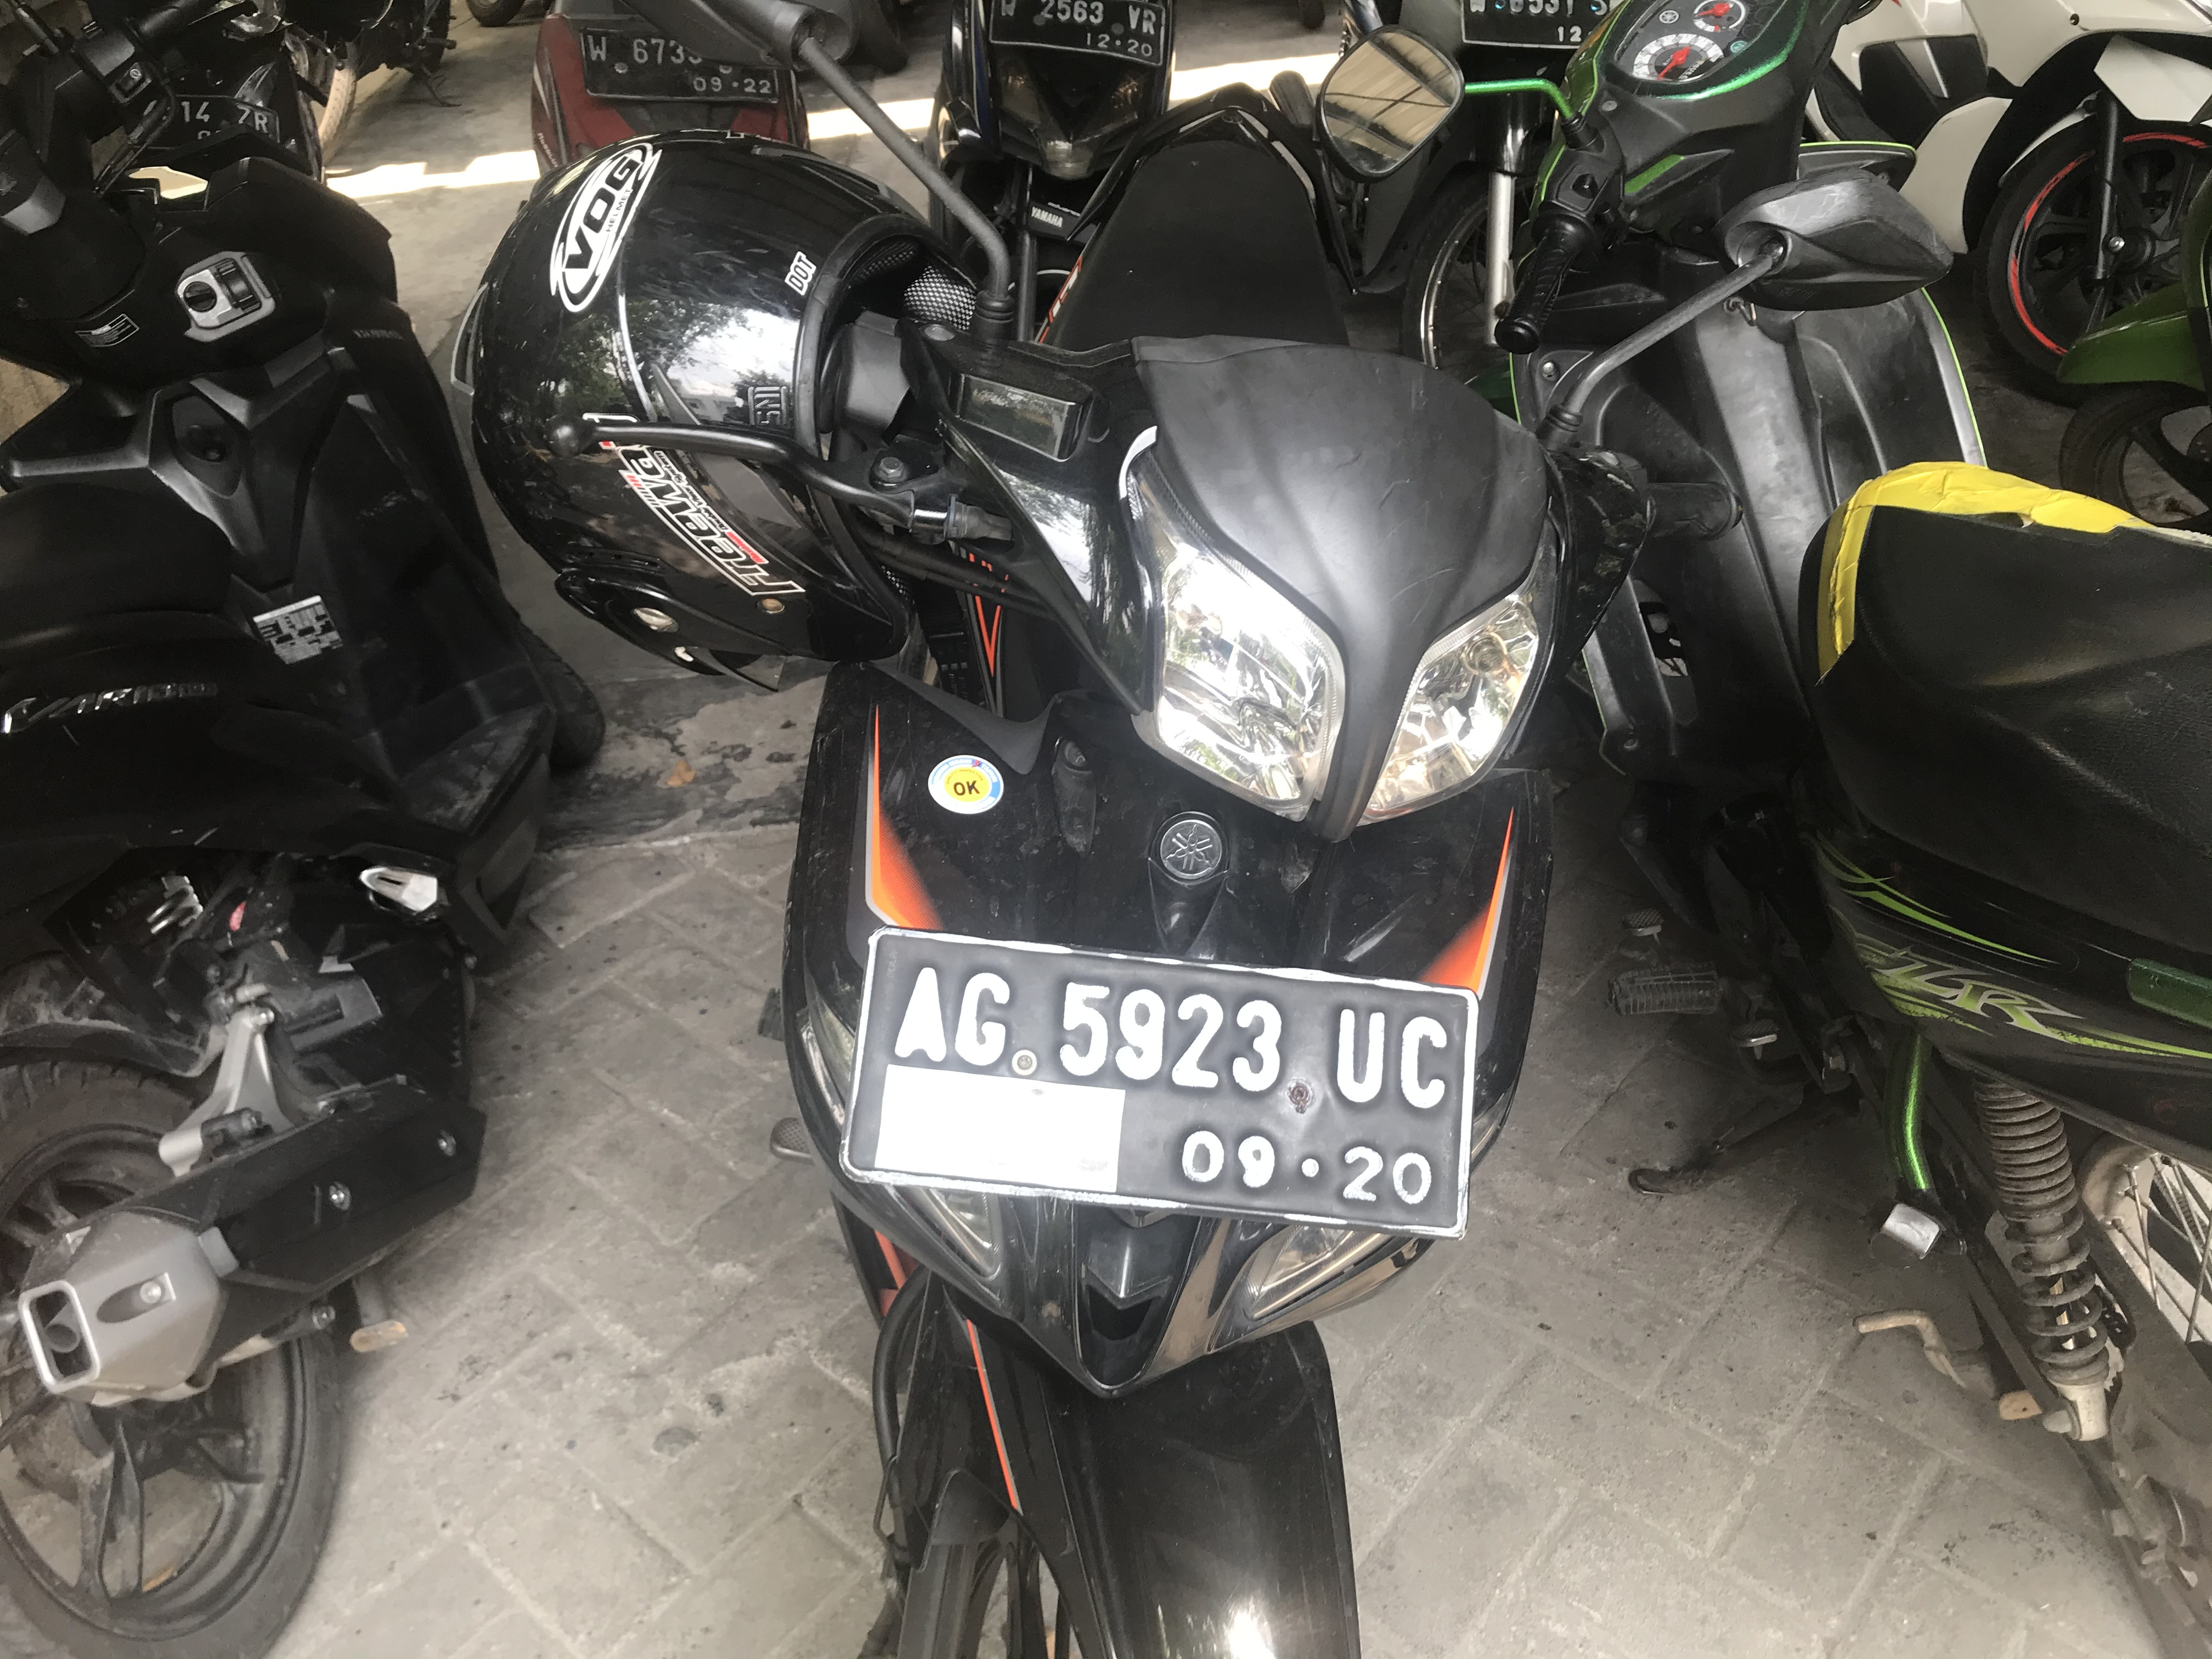plate: (863, 939, 1472, 1242)
